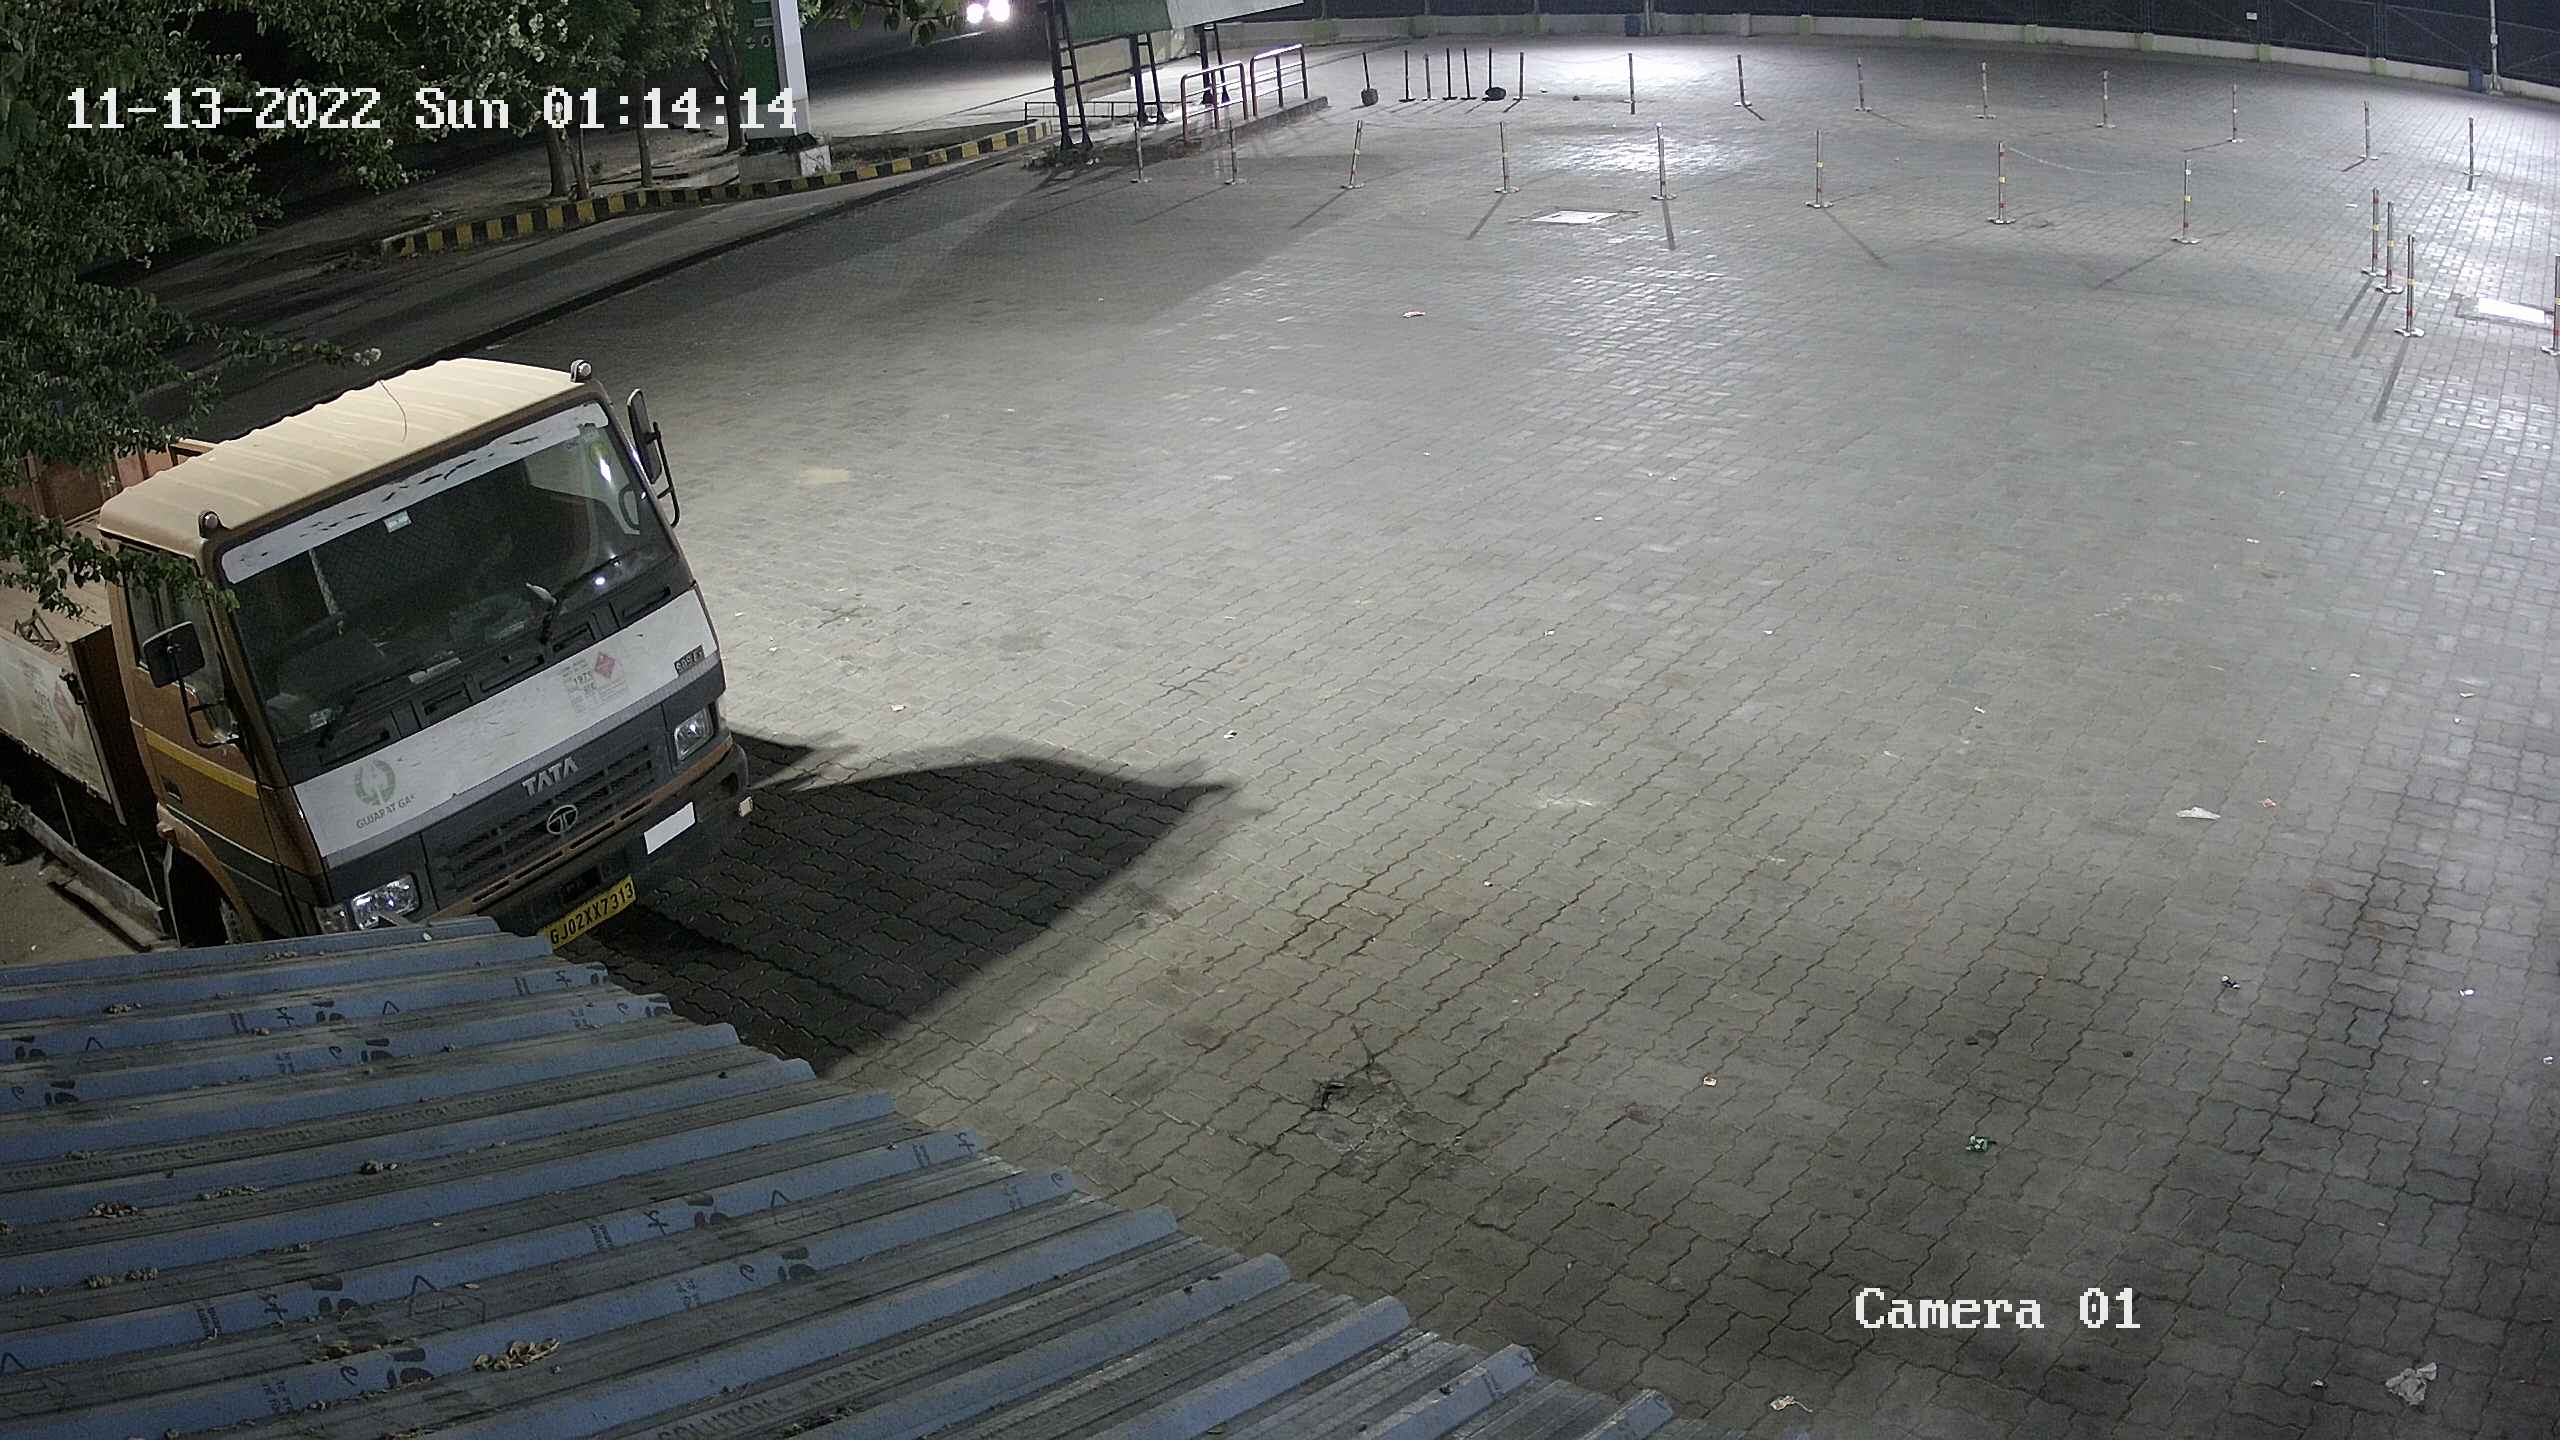HMV: (0, 329, 789, 976)
